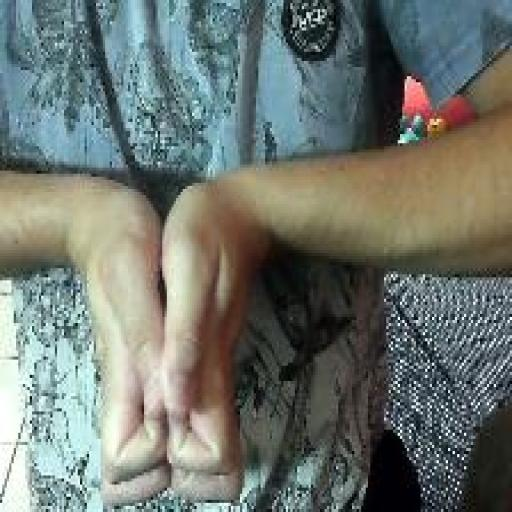I -boar-: (76, 165, 252, 509)
